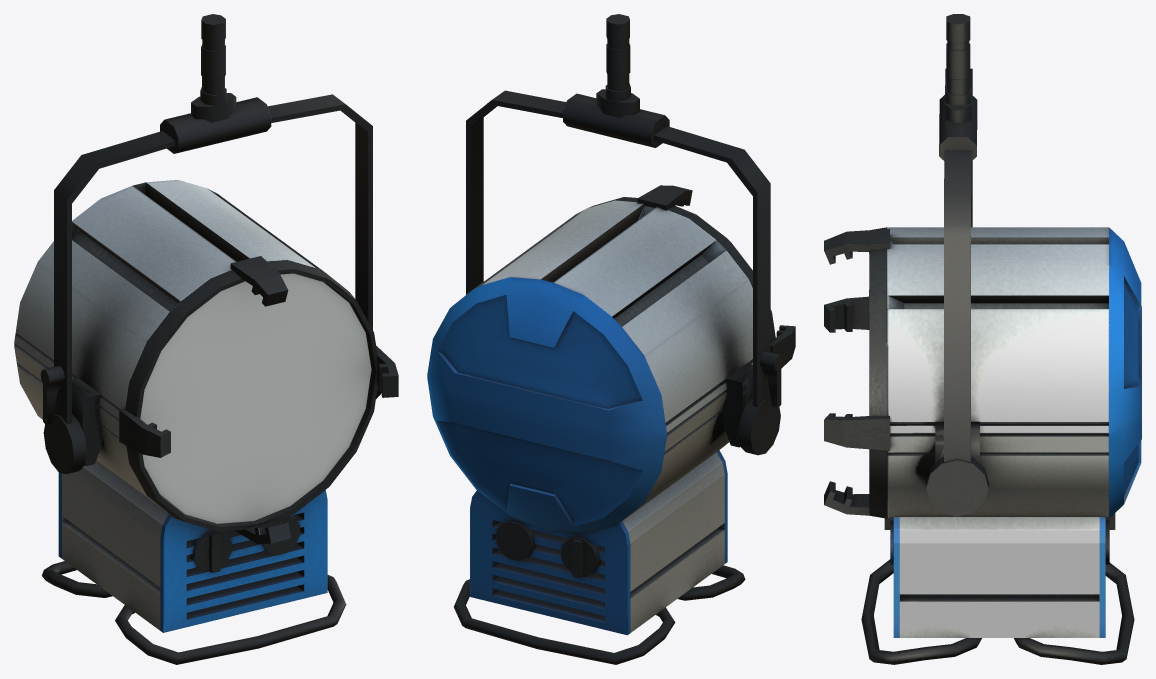
File: light.glb
3 views of the same model, side by side, from view 1: azimuth 30°, elevation 25°; view 2: azimuth 150°, elevation 25°; view 3: azimuth 270°, elevation 25° (orthographic). The views are drawn at different scales.
Visible parts, largest first — view 1: Cylinder003, Object001, Cylinder002; view 2: Cylinder003, Cylinder002; view 3: Cylinder003, Cylinder002.
Part boxes in pixels (x1,y1,x2,y2): Cylinder003: [14, 180, 398, 664]; Object001: [140, 273, 371, 523]; Cylinder002: [40, 14, 381, 474]; Cylinder003: [427, 185, 795, 664]; Cylinder002: [466, 14, 783, 455]; Cylinder003: [824, 227, 1141, 664]; Cylinder002: [926, 14, 988, 516].
Size of the model in its own units: 0.7215 by 1.27 by 0.6059.
Materials: 3 (3 with a texture image).
